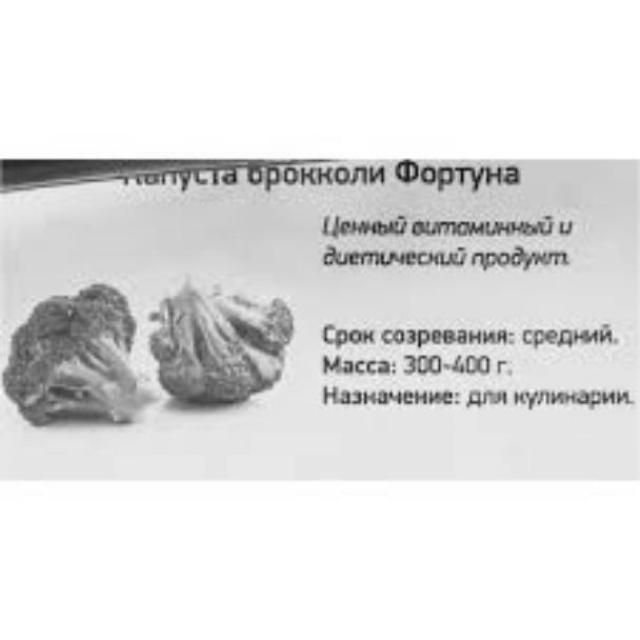bong cai xanh: (0, 264, 189, 420), (152, 255, 326, 406)
